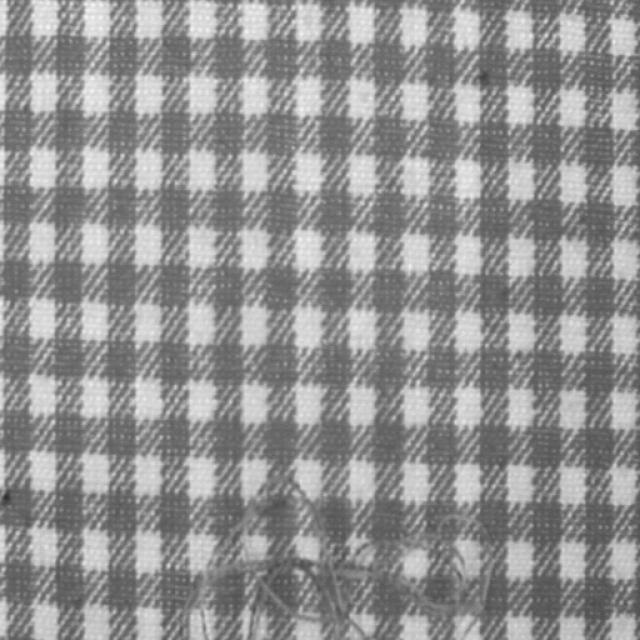Foreign-Body-Defect: (171, 484, 500, 639), (426, 500, 505, 544)
